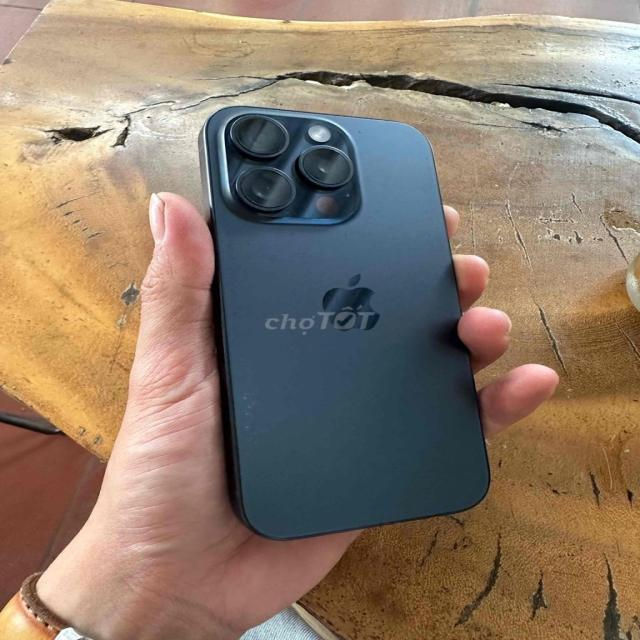gen_15: (184, 90, 502, 544)
